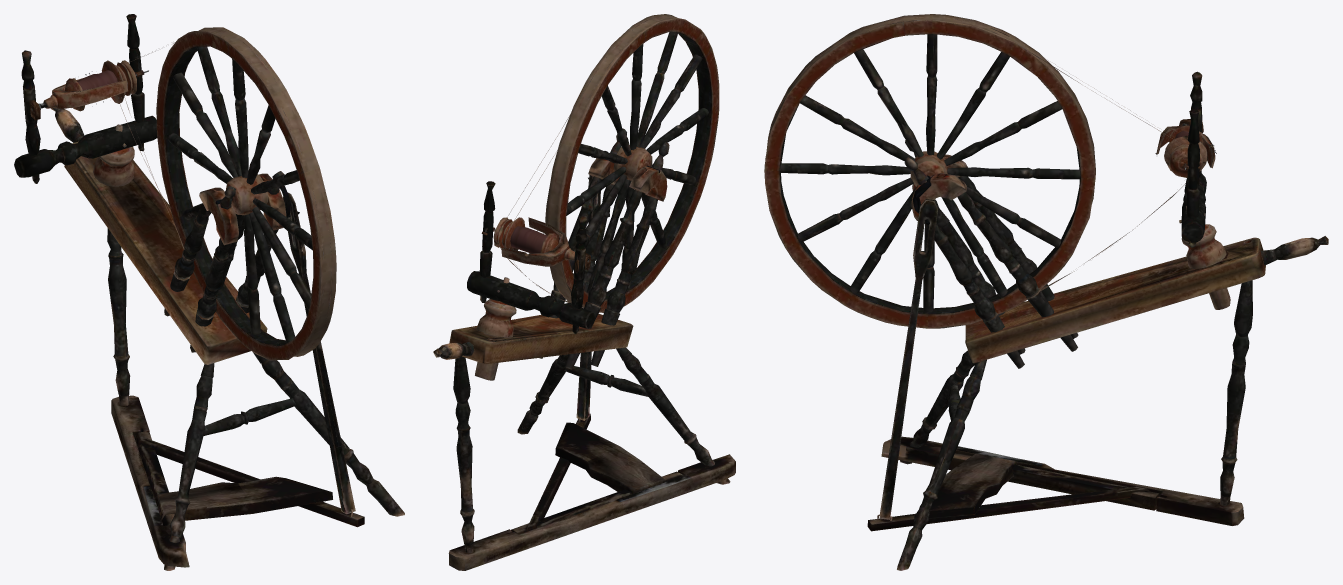
File: spinning_wheel_01.glb
3 renders of one model, left to right at view 1: azimuth 30°, elevation 25°; view 2: azimuth 150°, elevation 25°; view 3: azimuth 270°, elevation 25°, orthographic. The views are drawn at different scales.
Visible parts, largest first — view 1: spinning_wheel_01; view 2: spinning_wheel_01; view 3: spinning_wheel_01.
Boxes of the visible parts, x1,y1,x2,y2 form: spinning_wheel_01: [14, 14, 404, 570]; spinning_wheel_01: [433, 14, 735, 570]; spinning_wheel_01: [764, 14, 1328, 570].
Size of the model in its own units: 0.4894 by 0.9657 by 1.02.
1 material, 1 textured.
